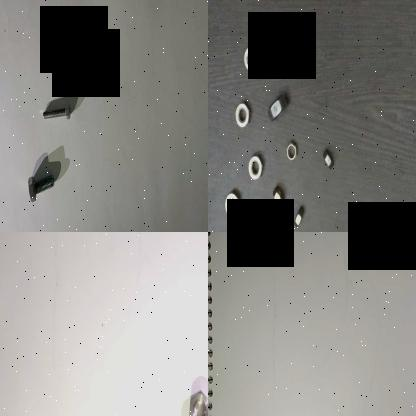Bolts: (41, 92, 73, 133), (24, 166, 57, 204)
NUTS: (266, 87, 288, 124), (240, 42, 262, 75), (222, 186, 241, 220), (187, 387, 208, 416), (246, 152, 262, 182), (233, 100, 249, 130), (284, 134, 300, 164), (320, 144, 335, 172), (271, 180, 284, 208), (290, 204, 304, 230), (243, 218, 261, 232)
